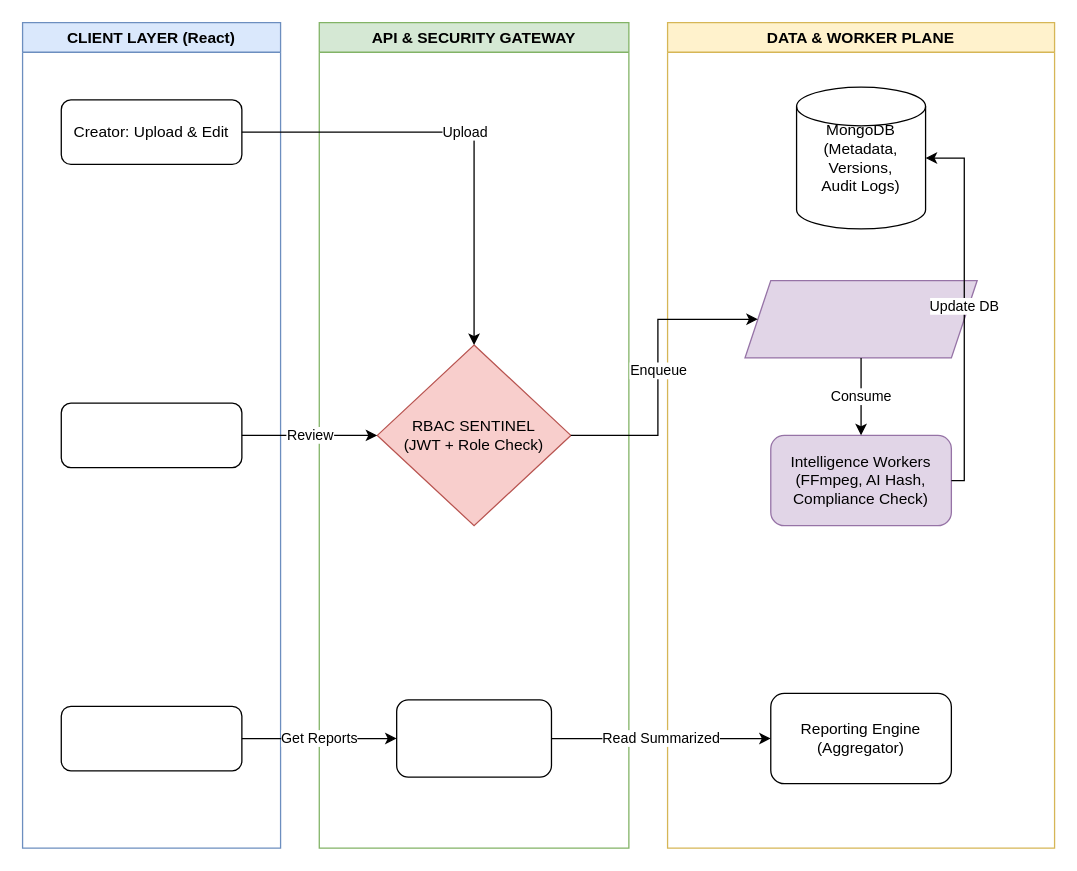
This 1077x871 diagram has some shape labels left out. The shapes that lost their labels are listed below. From the top down, each one's centre as x and y in pixels, then its label:
At [860,318]: "Async Task Queue (Redis / BullMQ)".
At [151,435]: "Manager: Review & App".
At [151,738]: "Admin: Reports & Audit".
At [473,738]: "Usage & Analytics API".
